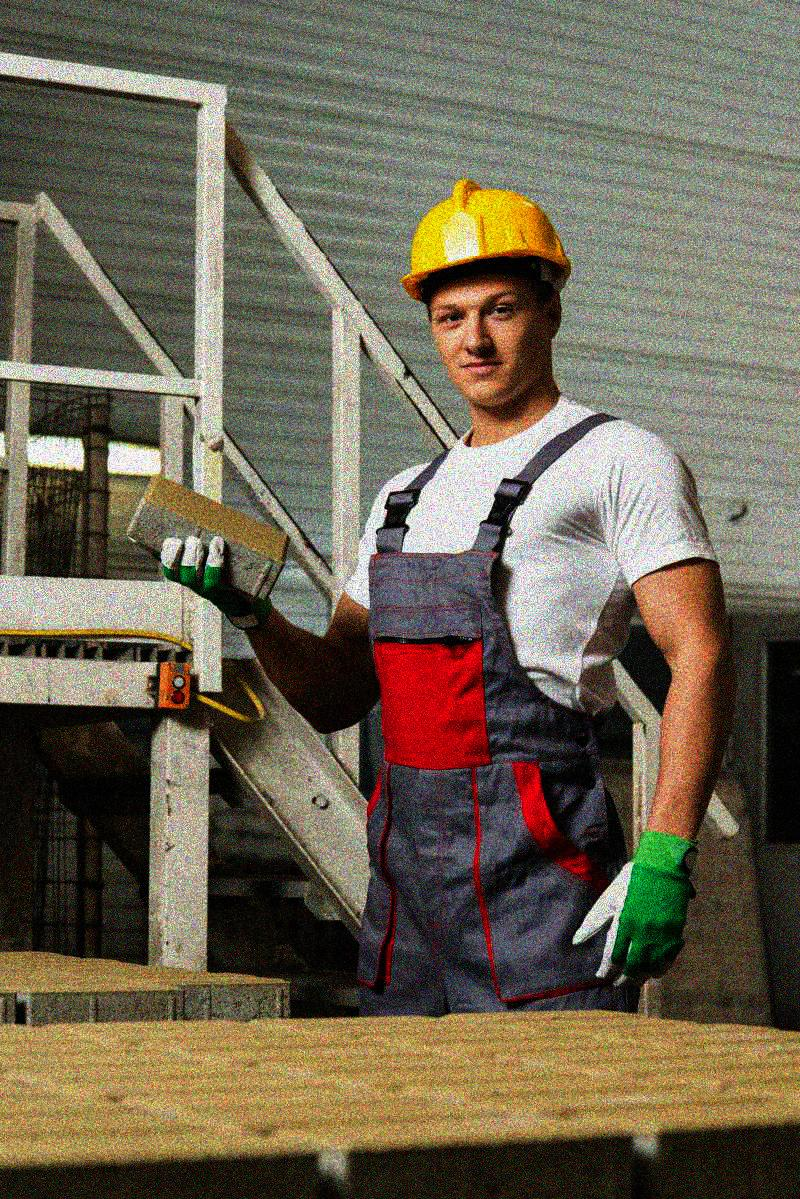helmet: (401, 177, 580, 408)
